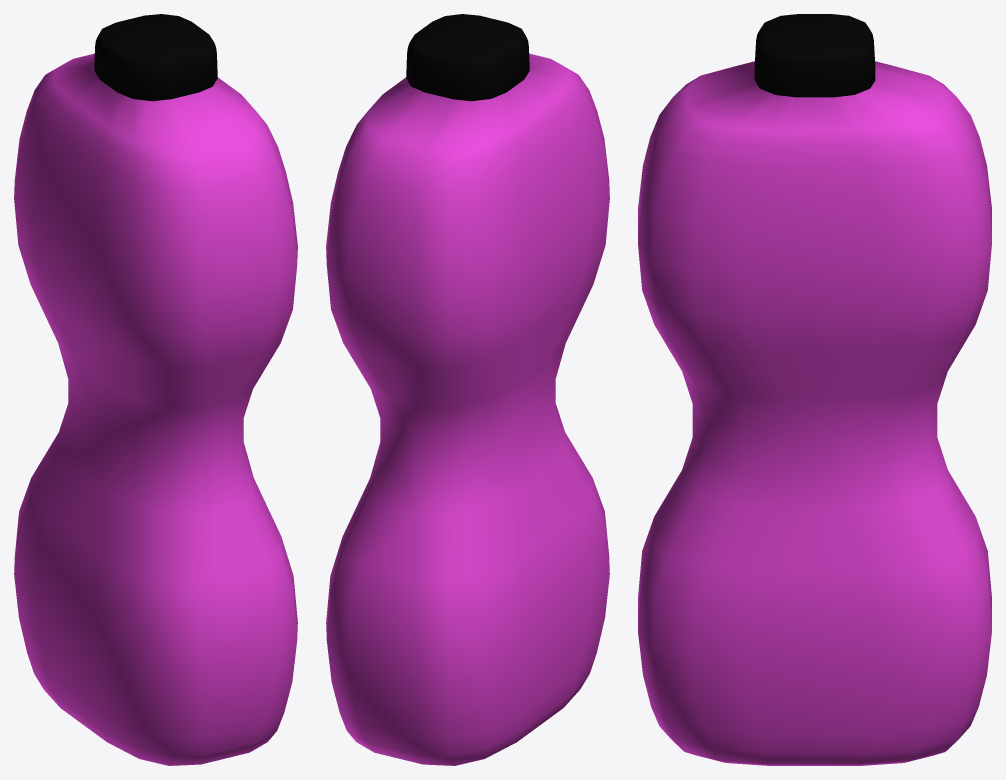
Rendered from Soap.glb.
3 renders of one model, left to right at view 1: azimuth 30°, elevation 25°; view 2: azimuth 150°, elevation 25°; view 3: azimuth 270°, elevation 25°, orthographic. The views are drawn at different scales.
Visible parts, largest first — view 1: soap_bottle, soap_bottle_cap; view 2: soap_bottle, soap_bottle_cap; view 3: soap_bottle, soap_bottle_cap.
Boxes of the visible parts, x1,y1,x2,y2 form: soap_bottle: [14, 53, 297, 765]; soap_bottle_cap: [94, 14, 217, 101]; soap_bottle: [326, 53, 609, 765]; soap_bottle_cap: [406, 14, 529, 101]; soap_bottle: [638, 61, 991, 765]; soap_bottle_cap: [754, 14, 875, 97].
Bounding box in the file's own units: 0.308 × 1.12 × 0.5142.
